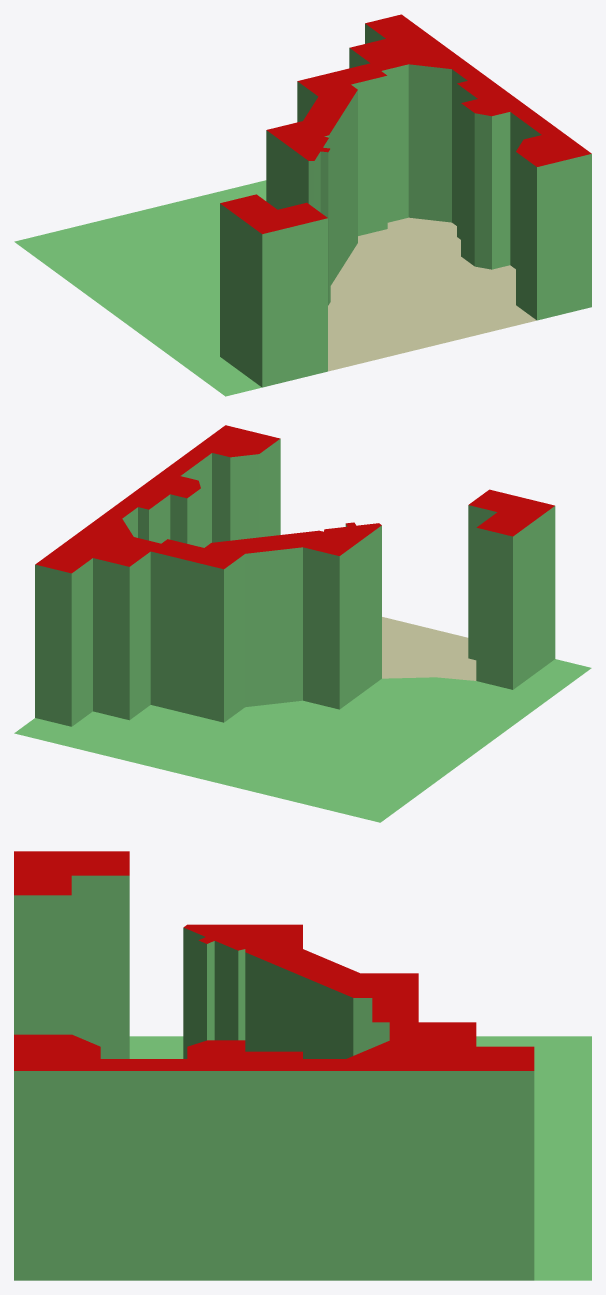
Rendered from x_oo_ground_31_wall1_rmstrd.fbx.
3 views of the same model, one above another, from view 1: azimuth 30°, elevation 25°; view 2: azimuth 150°, elevation 25°; view 3: azimuth 270°, elevation 25° (orthographic). The views are drawn at different scales.
Parts seen in each view (by area): view 1: x_oo_ground_31_wall1_rmstrd1; view 2: x_oo_ground_31_wall1_rmstrd1; view 3: x_oo_ground_31_wall1_rmstrd1.
Part boxes in pixels (x1,y1,x2,y2): x_oo_ground_31_wall1_rmstrd1: [14, 14, 591, 396]; x_oo_ground_31_wall1_rmstrd1: [14, 425, 591, 822]; x_oo_ground_31_wall1_rmstrd1: [14, 851, 591, 1280].
Size of the model in its own units: 10 by 4 by 10.
